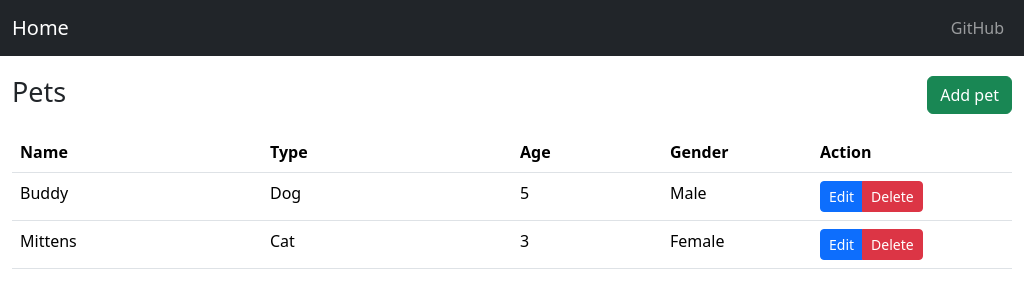
Scenario: handles deletion of a pet correctly
Expected: the text "Buddy" is shown, x1=12 y1=173 x2=262 y2=221
Expected: the text "Mittens" is shown, x1=12 y1=221 x2=262 y2=269
// Delete the first pet
Click the button "Delete" in the row of "Buddy" at (892, 197), box x1=862 y1=181 x2=923 y2=212
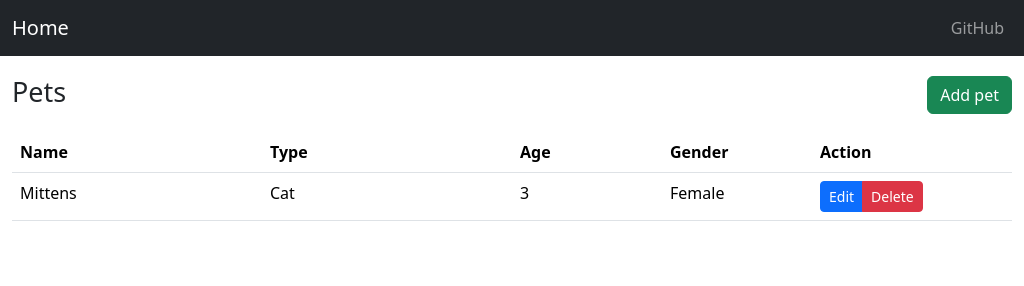
Expected: the text "Mittens" is shown, x1=12 y1=173 x2=262 y2=221
Result: the text "Buddy" is gone
